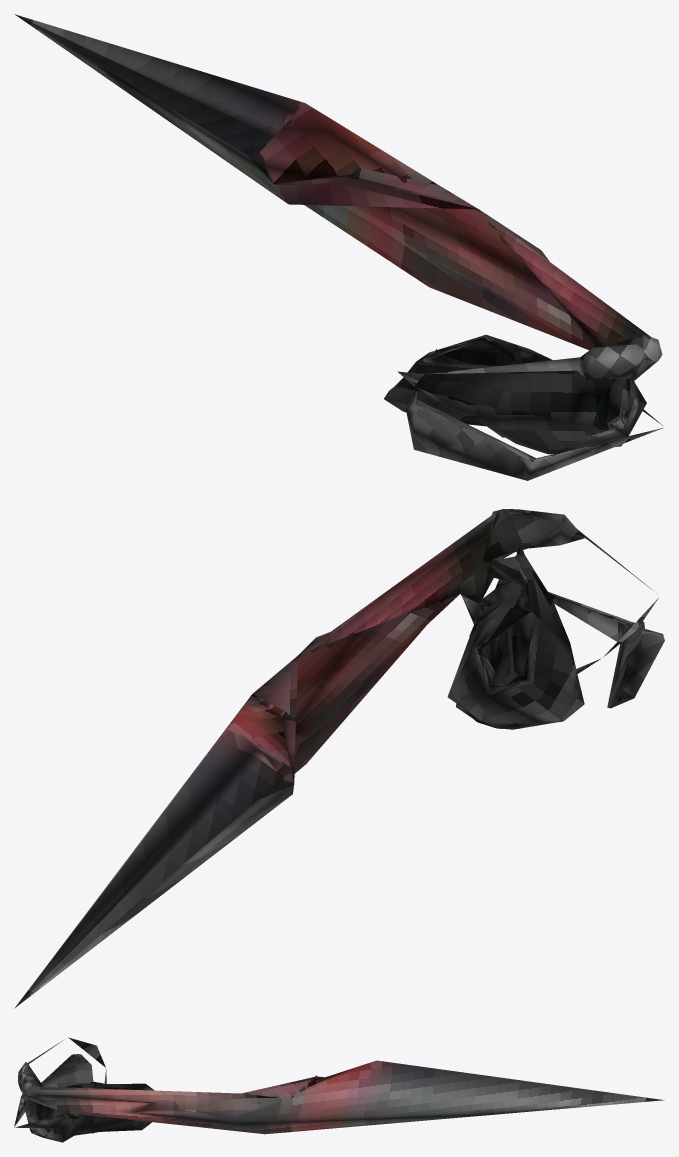
Rendered from Remington_1_12_inch_Hair_Straightener-low.glb.
The picture shows the model from 3 angles, top to bottom: view 1: azimuth 30°, elevation 25°; view 2: azimuth 150°, elevation 25°; view 3: azimuth 270°, elevation 25°; orthographic projection. The views are drawn at different scales.
Parts seen in each view (by area): view 1: Remington_1_12_inch_Hair_Straightener; view 2: Remington_1_12_inch_Hair_Straightener; view 3: Remington_1_12_inch_Hair_Straightener.
Boxes of the visible parts, bbox=[...] form: Remington_1_12_inch_Hair_Straightener: bbox=[15, 14, 662, 480]; Remington_1_12_inch_Hair_Straightener: bbox=[14, 509, 664, 1008]; Remington_1_12_inch_Hair_Straightener: bbox=[14, 1037, 664, 1142].
Bounding box in the file's own units: 0.0831 × 0.0445 × 0.342.
Materials: 1 (1 with a texture image).
